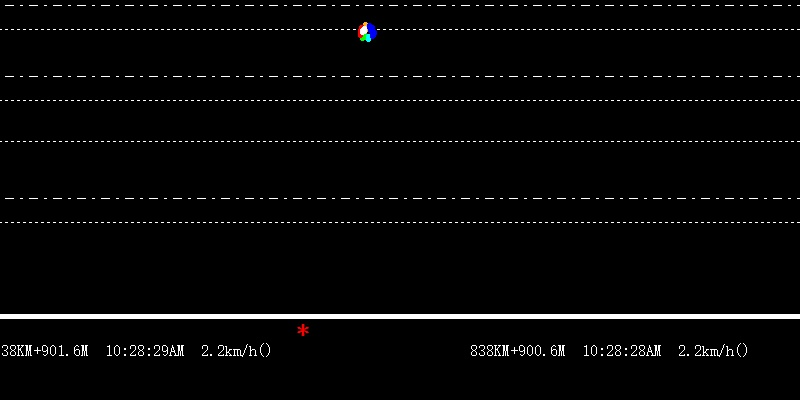face_2: (357, 20, 375, 43)
star: (294, 324, 310, 337)
